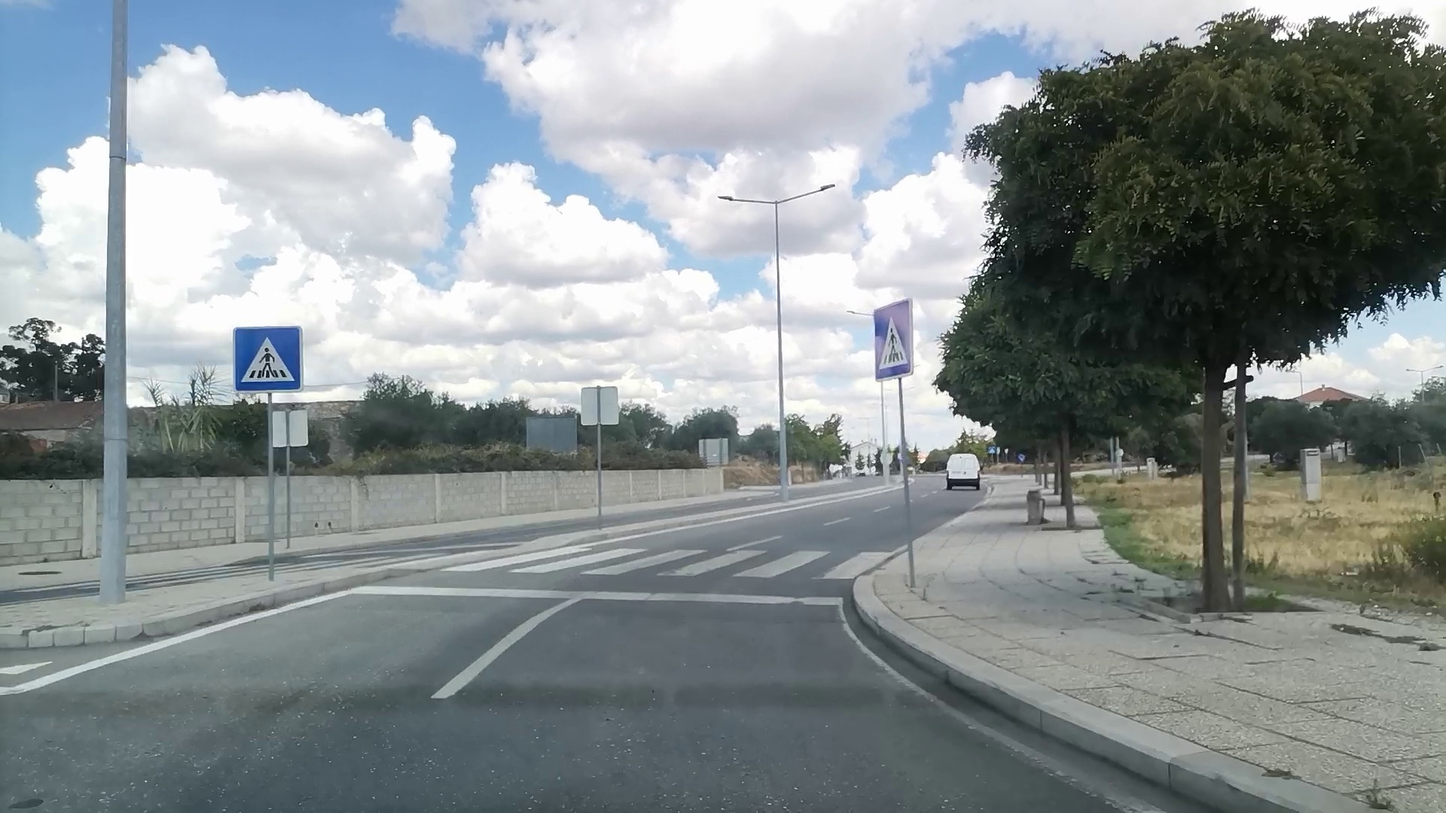Stairs: (429, 545, 904, 580)
